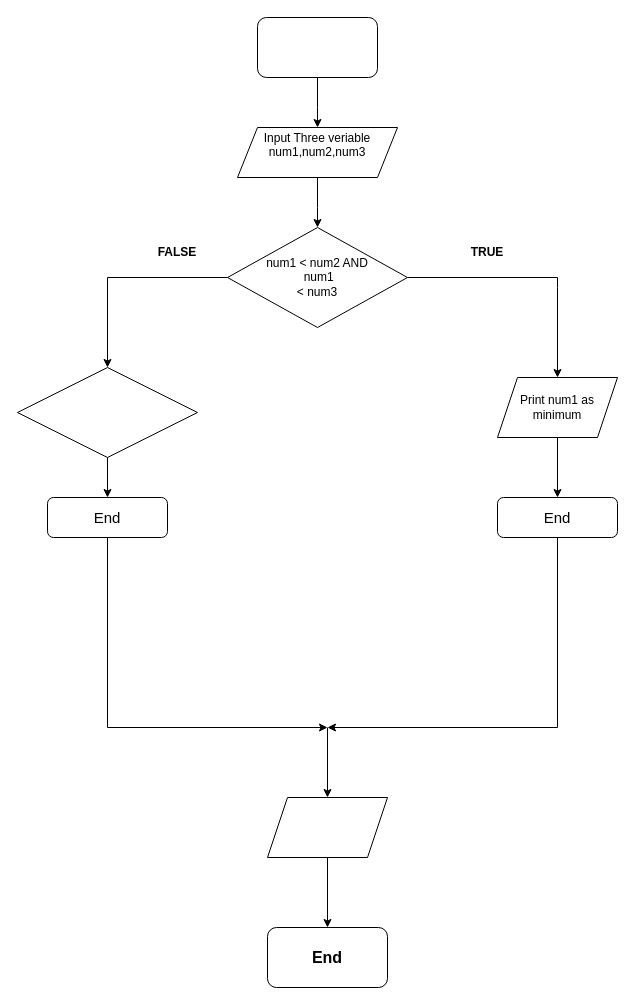
The diagram is 635 pixels wide and 1005 high, and some of its shapes have lost their labels. Each missing label, with the centre of its shape:
"num2 < num1 AND num2 < num3" goes at [107,412].
"Print num3" goes at [327,827].
"Start" goes at [317,47].
